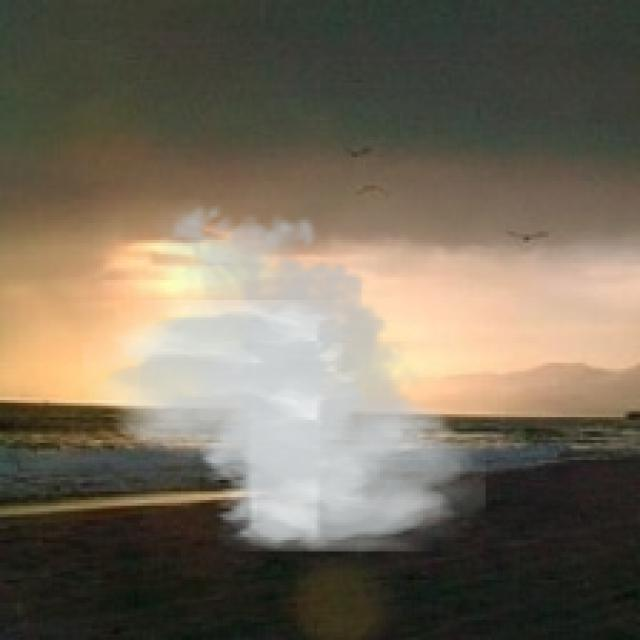smoke: (83, 194, 486, 552)
